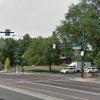Tree: (47, 2, 100, 76)
